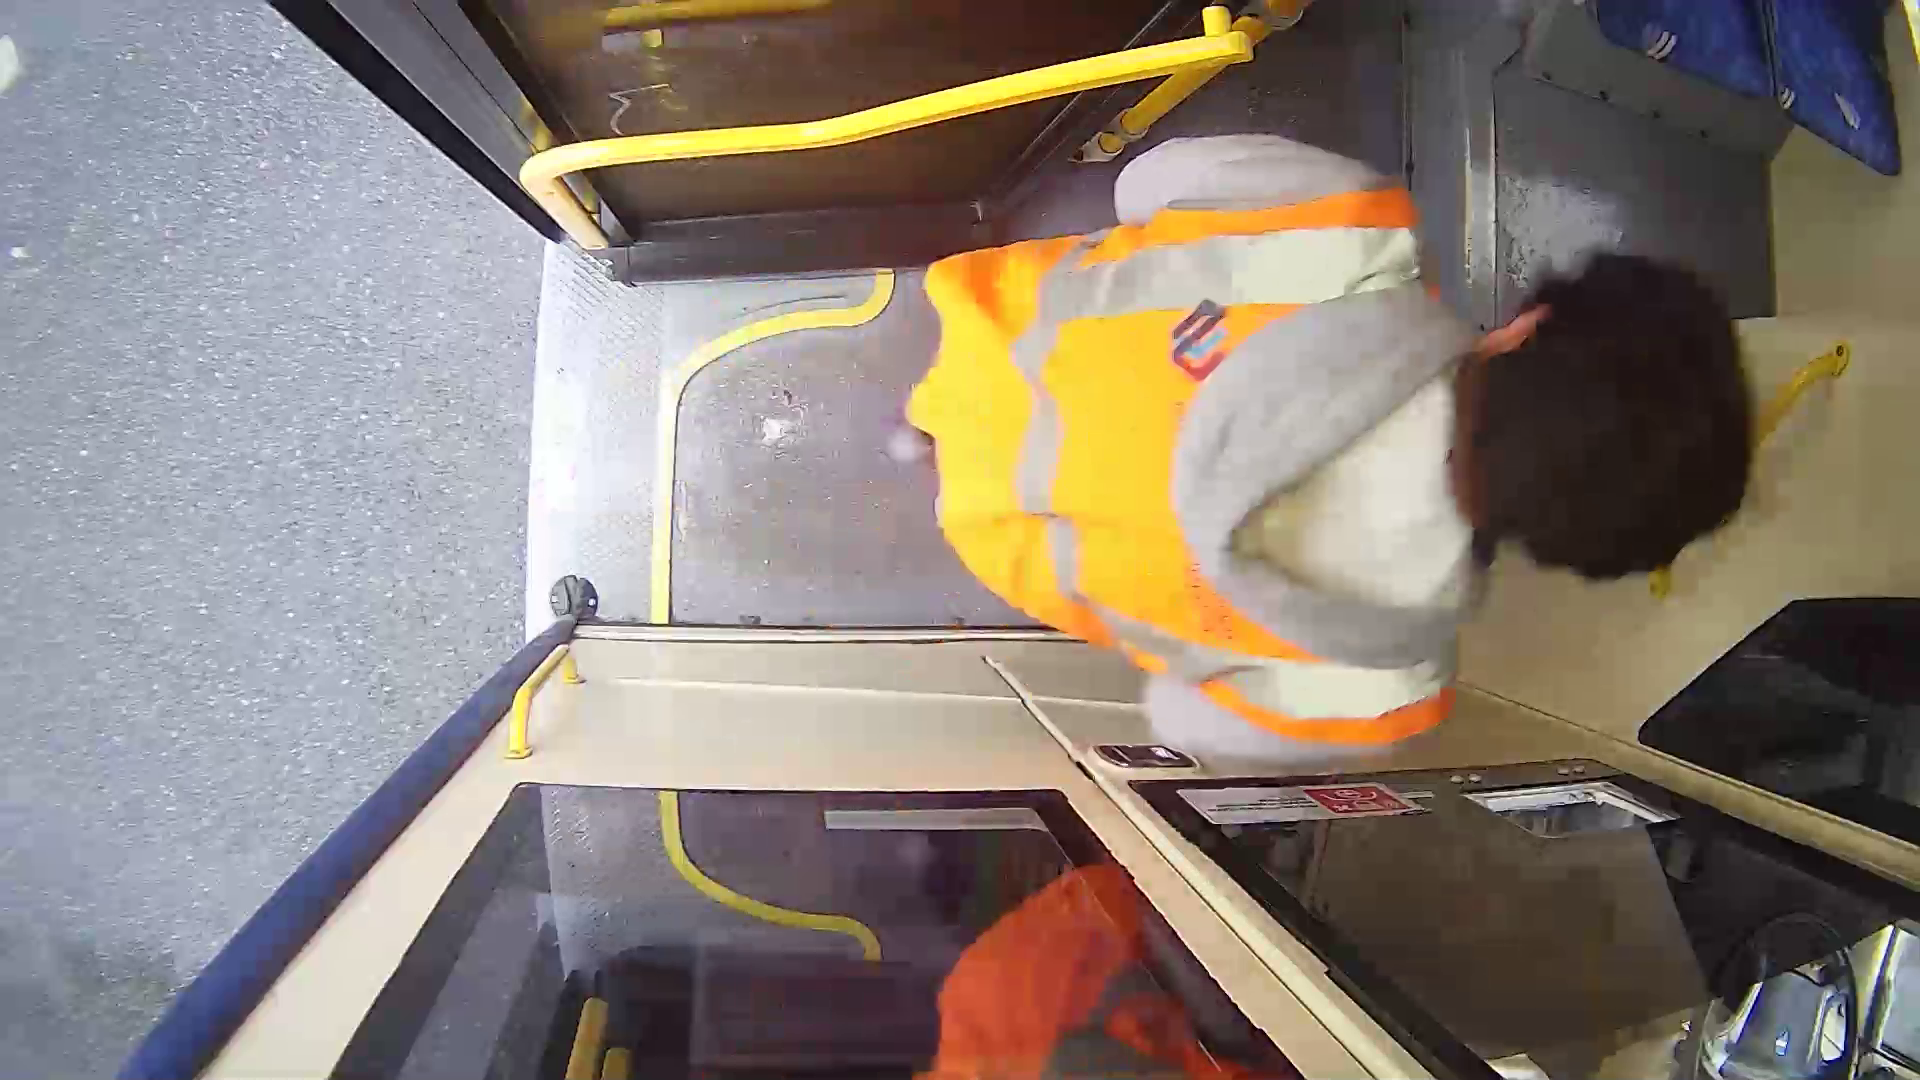person: (839, 94, 1841, 763)
